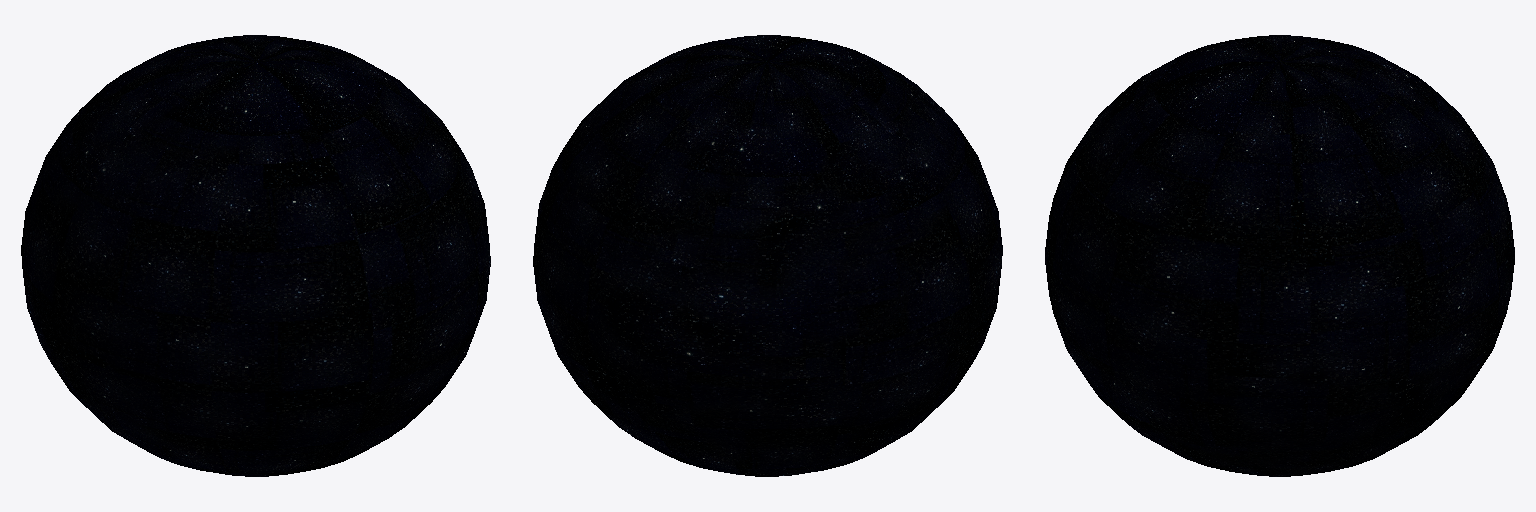
The picture shows the model from 3 angles: view 1: azimuth 30°, elevation 25°; view 2: azimuth 150°, elevation 25°; view 3: azimuth 270°, elevation 25°; orthographic projection.
Visible parts, largest first — view 1: Sphere_Sphere.001; view 2: Sphere_Sphere.001; view 3: Sphere_Sphere.001.
Boxes of the visible parts, x1=… form: Sphere_Sphere.001: x1=21, y1=35, x2=490, y2=476; Sphere_Sphere.001: x1=533, y1=35, x2=1002, y2=476; Sphere_Sphere.001: x1=1045, y1=35, x2=1514, y2=476.
Size of the model in its own units: 2 by 1.82 by 2.
Materials: 1 (1 with a texture image).